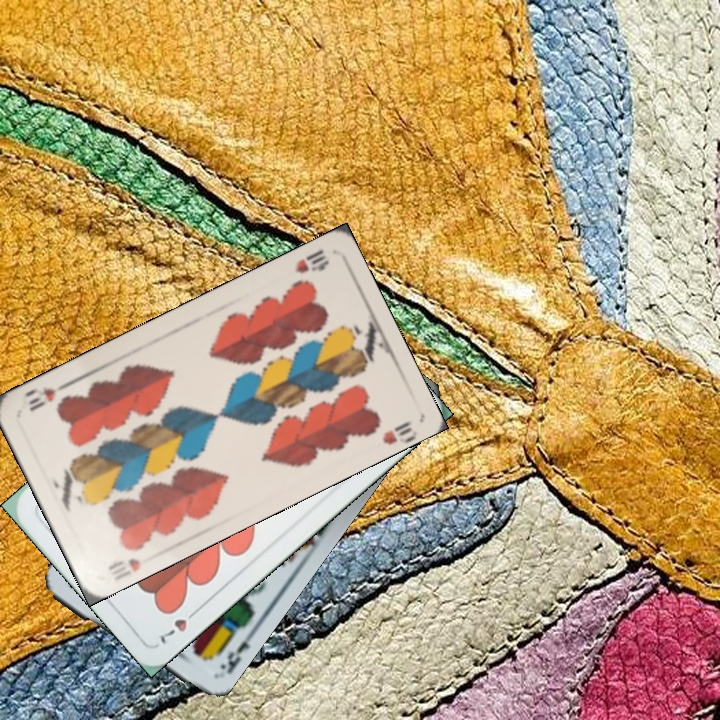EK: (209, 635, 252, 682)
H10: (291, 245, 332, 276), (104, 553, 143, 574)
H7: (153, 603, 203, 647)
